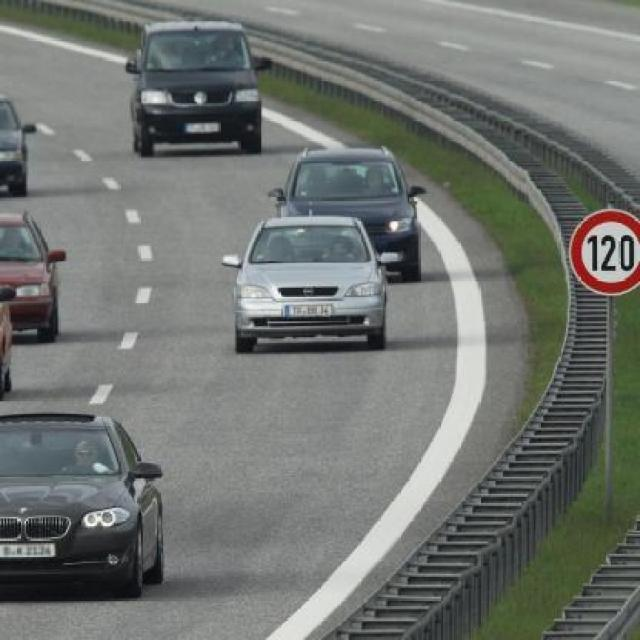forb_speed_over_120: (572, 212, 640, 295)
